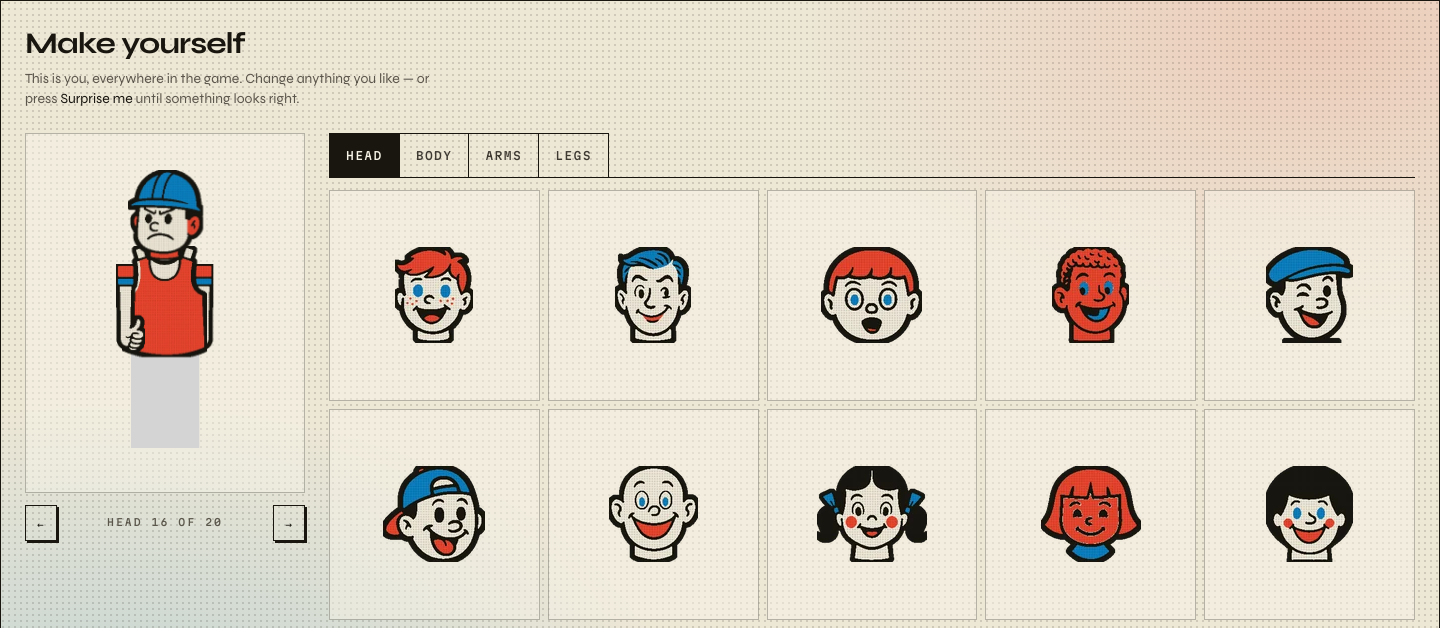
Test: choosing a character › switches catalogue when you switch slot
Click the tab "Legs".
click(573, 155)  # box [538,133,609,177]
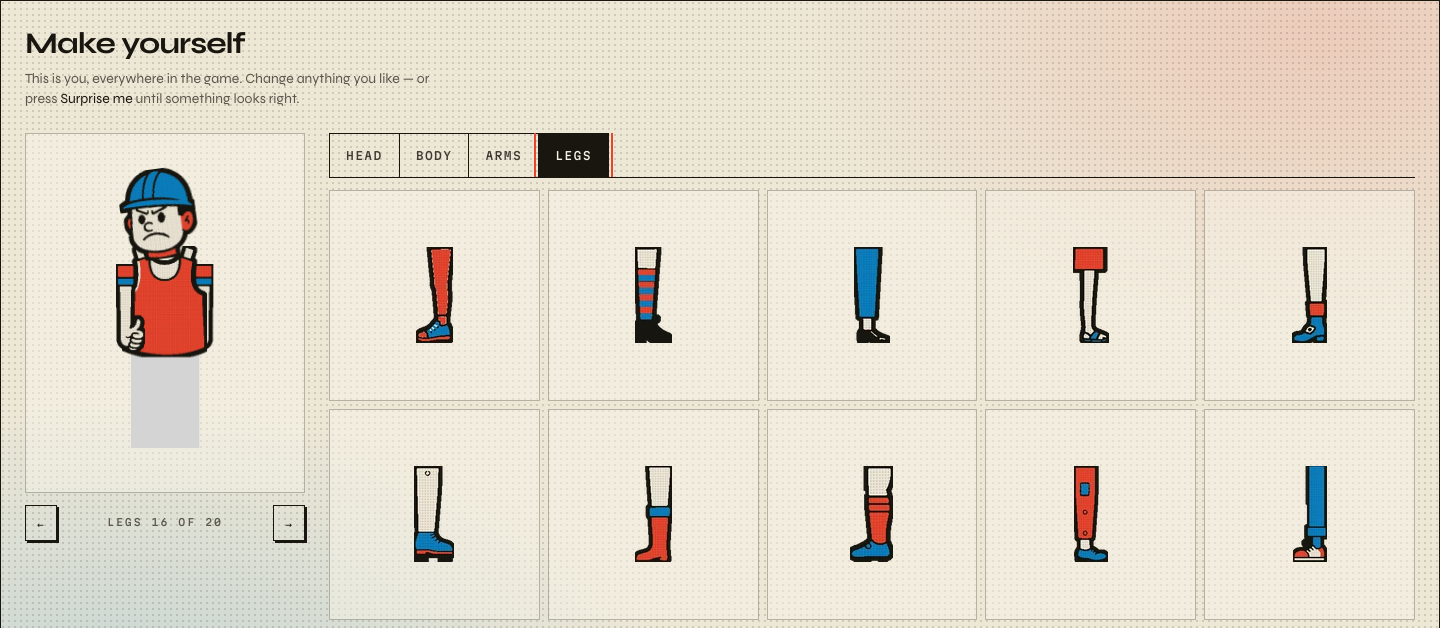
Now the text "Legs 16 of 20" is shown, box [107,516,223,528]
